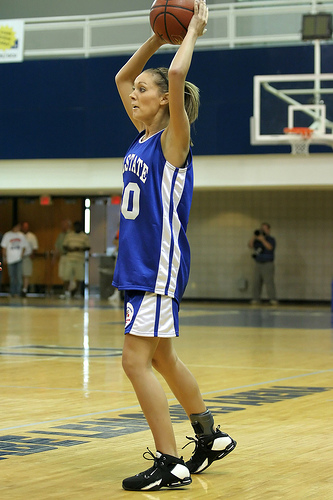basketball: (151, 1, 205, 46)
